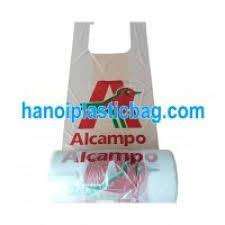Plastic bag: (31, 2, 189, 217)
